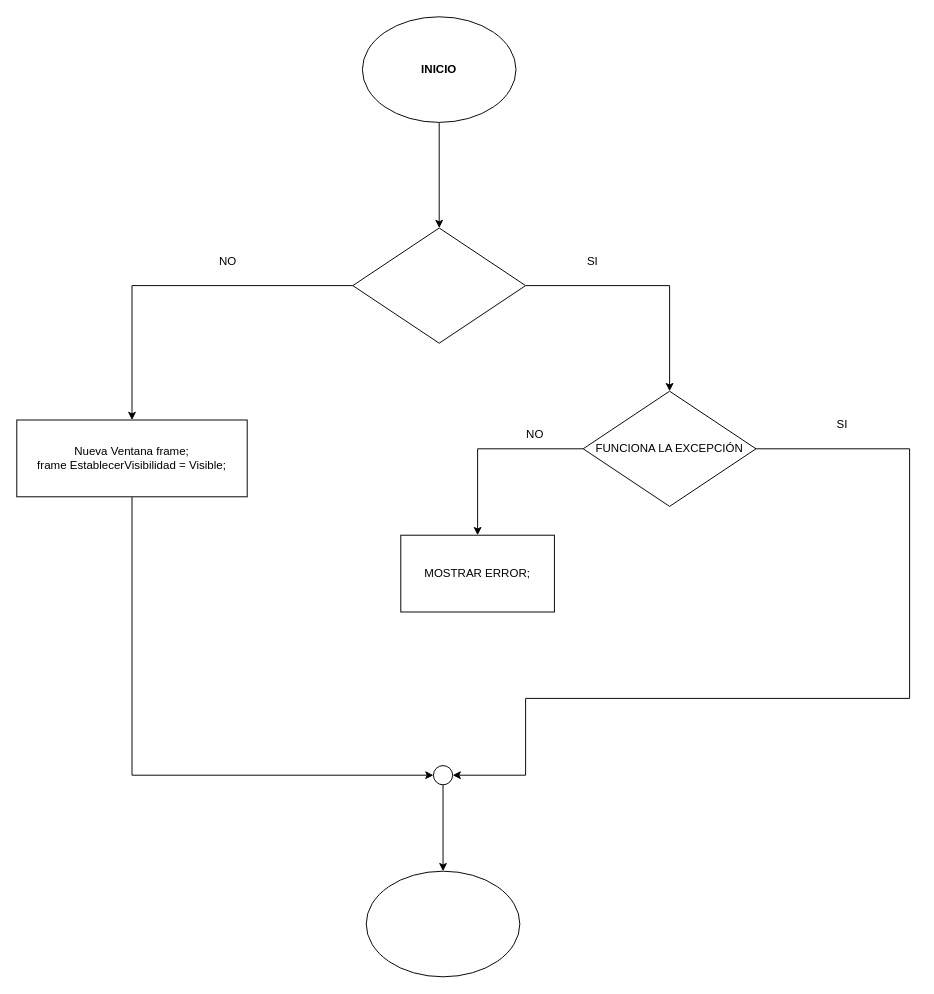
Some shapes in this 934 by 994 pixel diagram are drawn without their labels. The shapes that lost their labels are listed below. From the top down, each one's box as (x1, y1, x2, y2) in pixels, then its label:
(352, 227, 526, 343): NECESIDAD EXCEPCION
(365, 870, 520, 977): FIN
